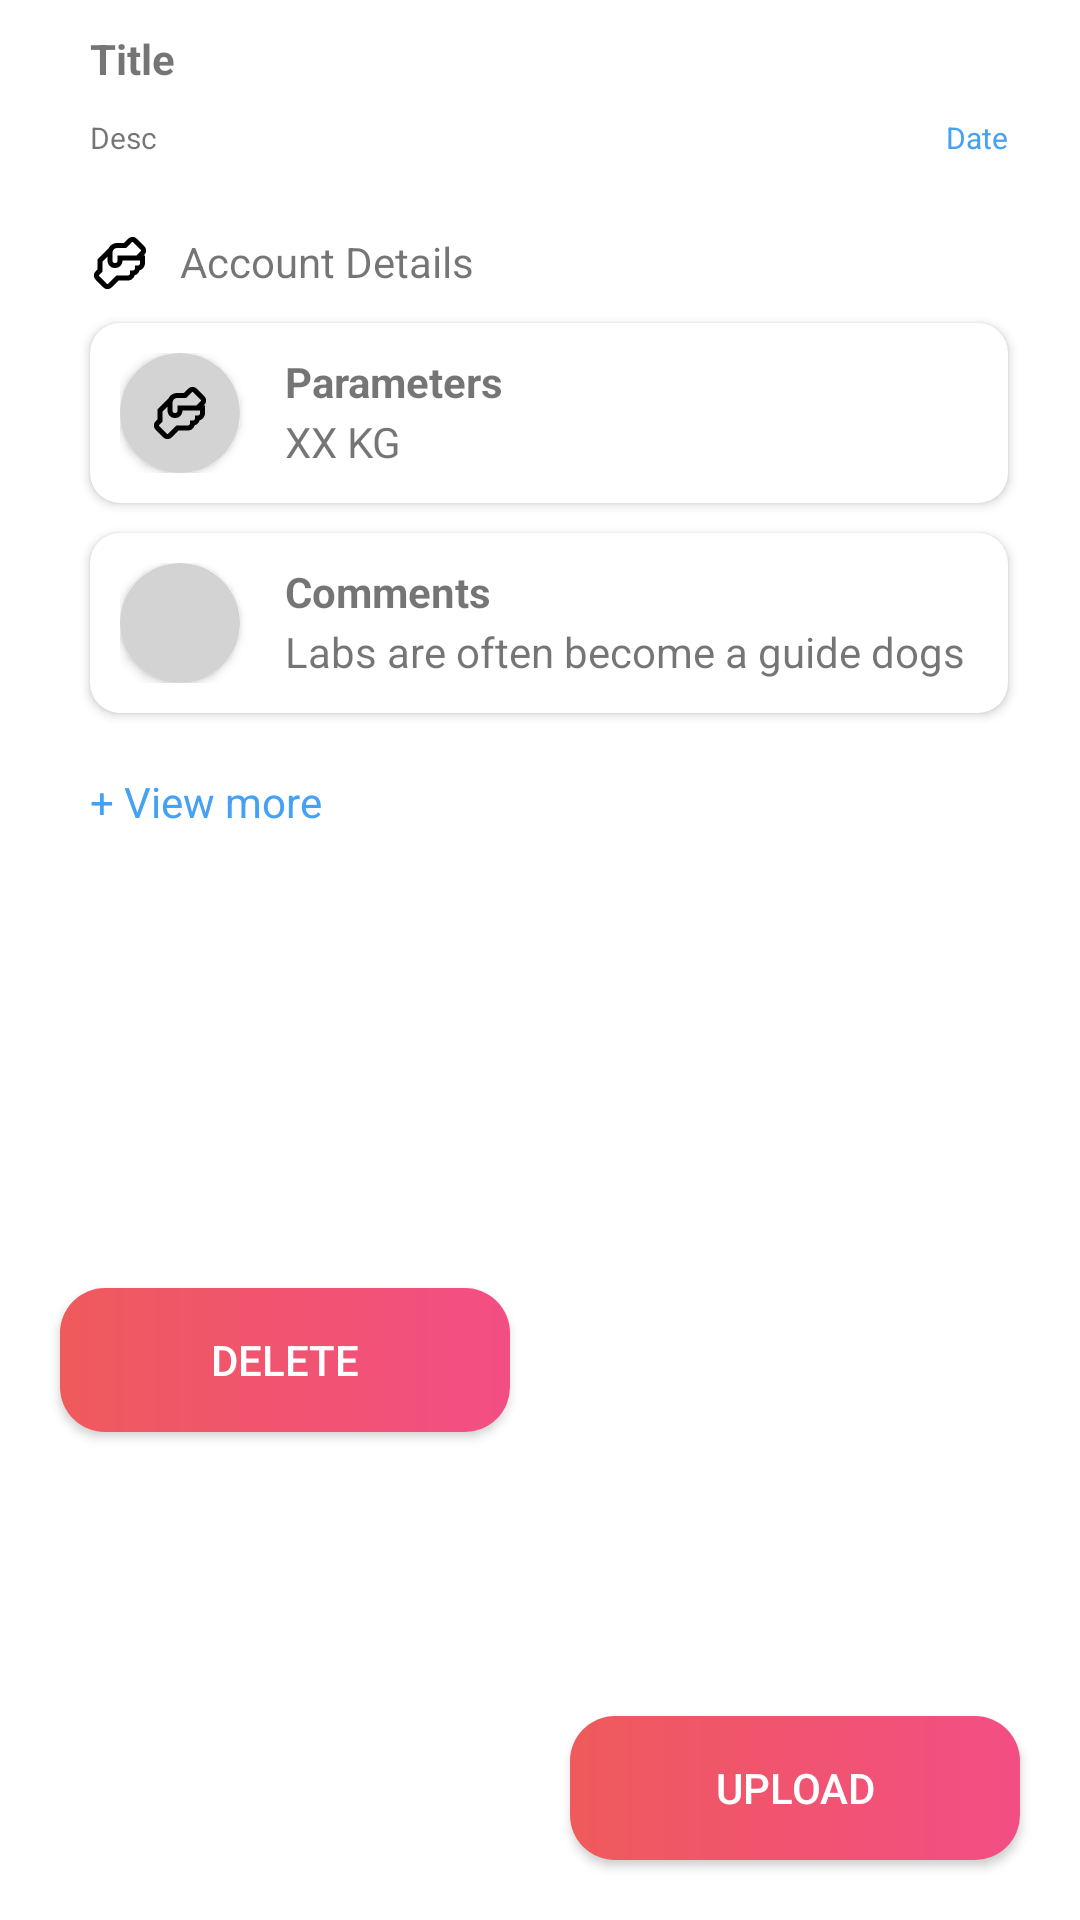

Icons on this 1080px×1920px Android screen, each with the point to tap as (x,y):
handshake: (120,263), (180,413)
